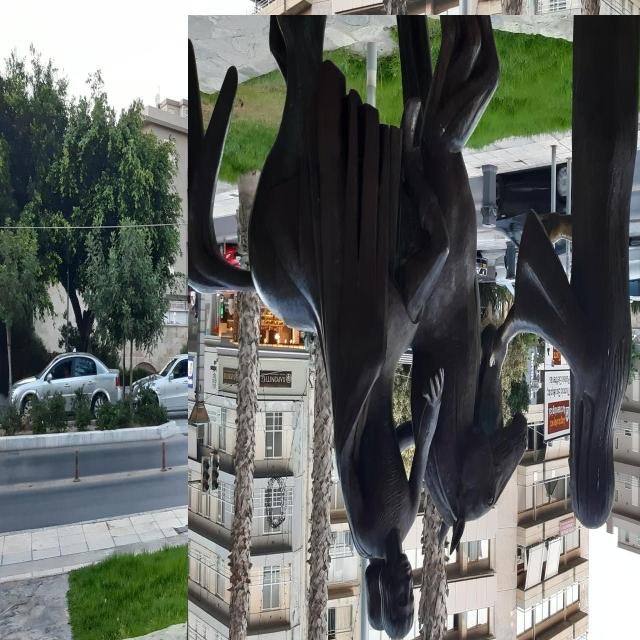Aretousa: (189, 16, 640, 640)
